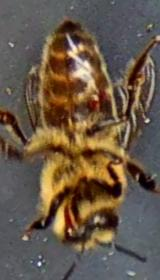varroa_mite: (83, 88, 111, 111)
